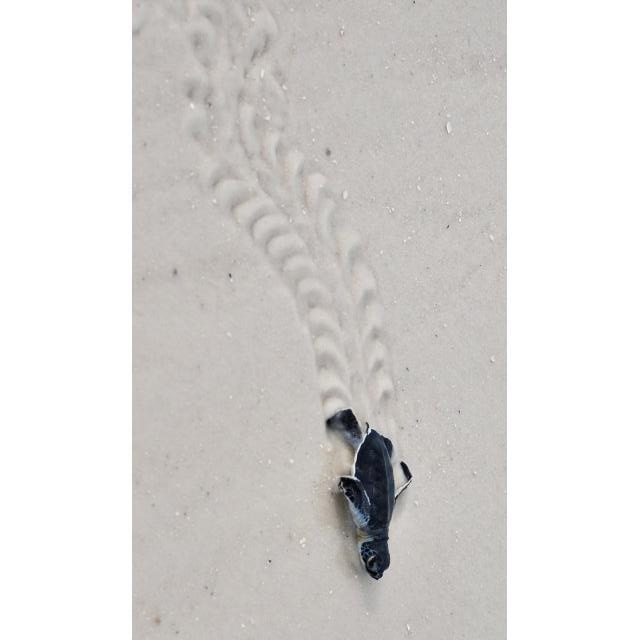turtle: (323, 408, 412, 582)
